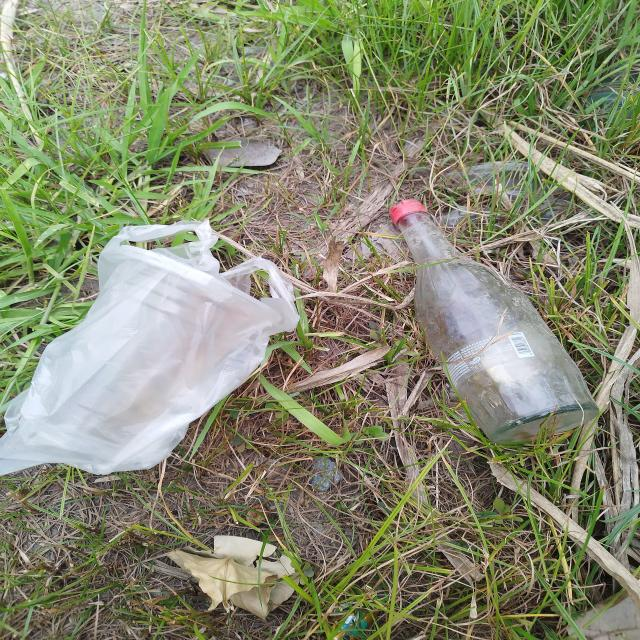bottle: (388, 198, 600, 442)
trash bag: (0, 222, 300, 476)
